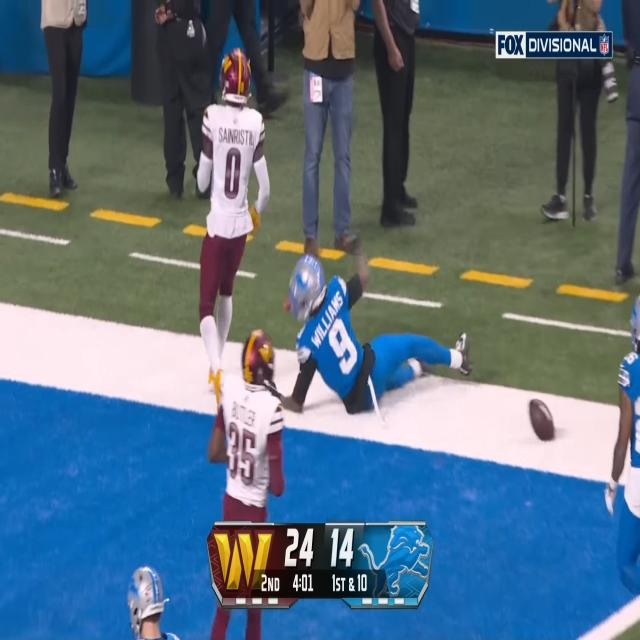Ball: (528, 396, 555, 444)
